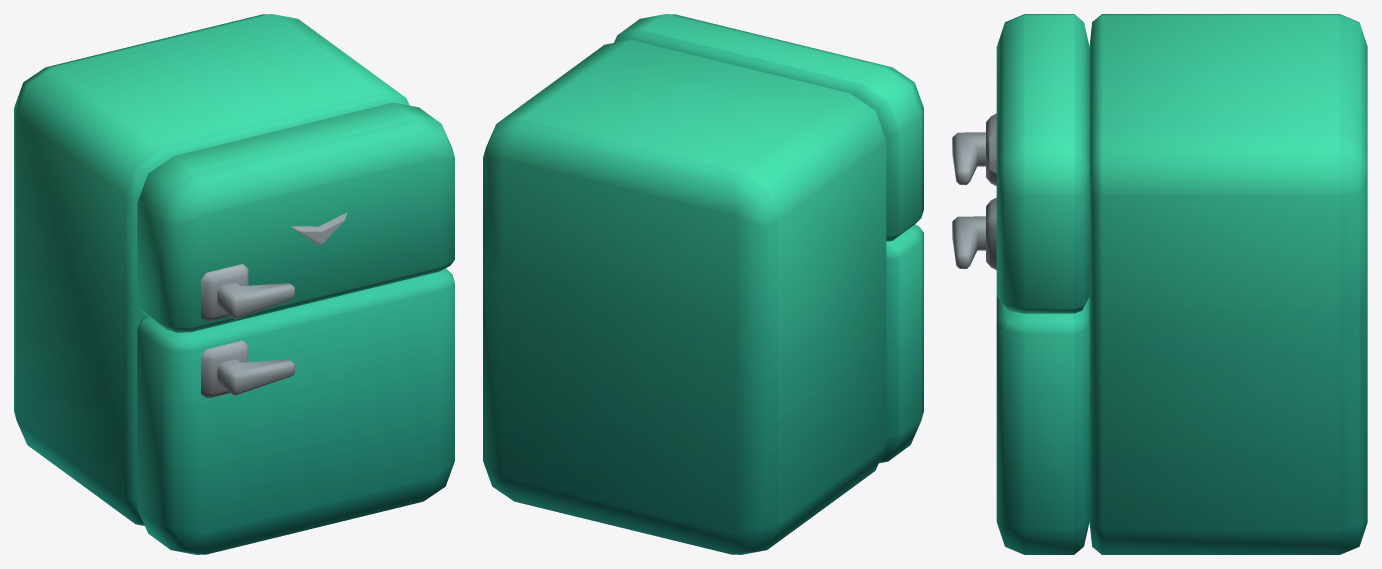
File: kaykit-fridge-a.glb
3 renders of one model, left to right at view 1: azimuth 30°, elevation 25°; view 2: azimuth 150°, elevation 25°; view 3: azimuth 270°, elevation 25°, orthographic. The views are drawn at different scales.
Visible parts, largest first — view 1: fridge_A; view 2: fridge_A; view 3: fridge_A.
Part boxes in pixels (x1,y1,x2,y2): fridge_A: (14, 14, 454, 554); fridge_A: (483, 14, 923, 554); fridge_A: (952, 14, 1367, 554).
Bounding box in the file's own units: 2 × 2.5 × 2.24.
Materials: 1 (1 with a texture image).
